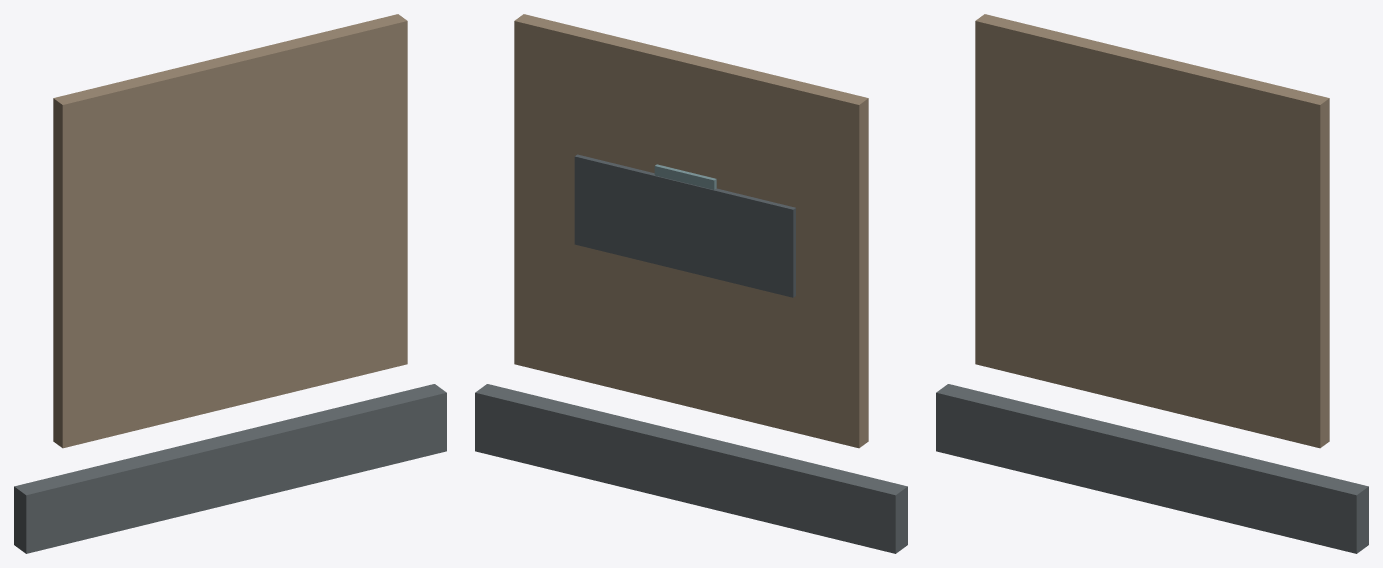
Rendered from iz3_prison_bars_02.glb.
The picture shows the model from 3 angles, left to right: view 1: azimuth 30°, elevation 25°; view 2: azimuth 150°, elevation 25°; view 3: azimuth 330°, elevation 25°; orthographic projection.
Parts seen in each view (by area): view 1: cabinet, base; view 2: cabinet, base, panel, display; view 3: cabinet, base.
Part boxes in pixels (box(x1,y1,x2,y2)): cabinet: box(53, 14, 407, 448); base: box(14, 384, 446, 553); cabinet: box(514, 14, 868, 448); base: box(475, 384, 907, 553); panel: box(574, 154, 795, 297); display: box(654, 164, 716, 189); cabinet: box(975, 14, 1329, 448); base: box(936, 384, 1368, 553).
Size of the model in its own units: 2.4 by 2.39 by 0.1342.
